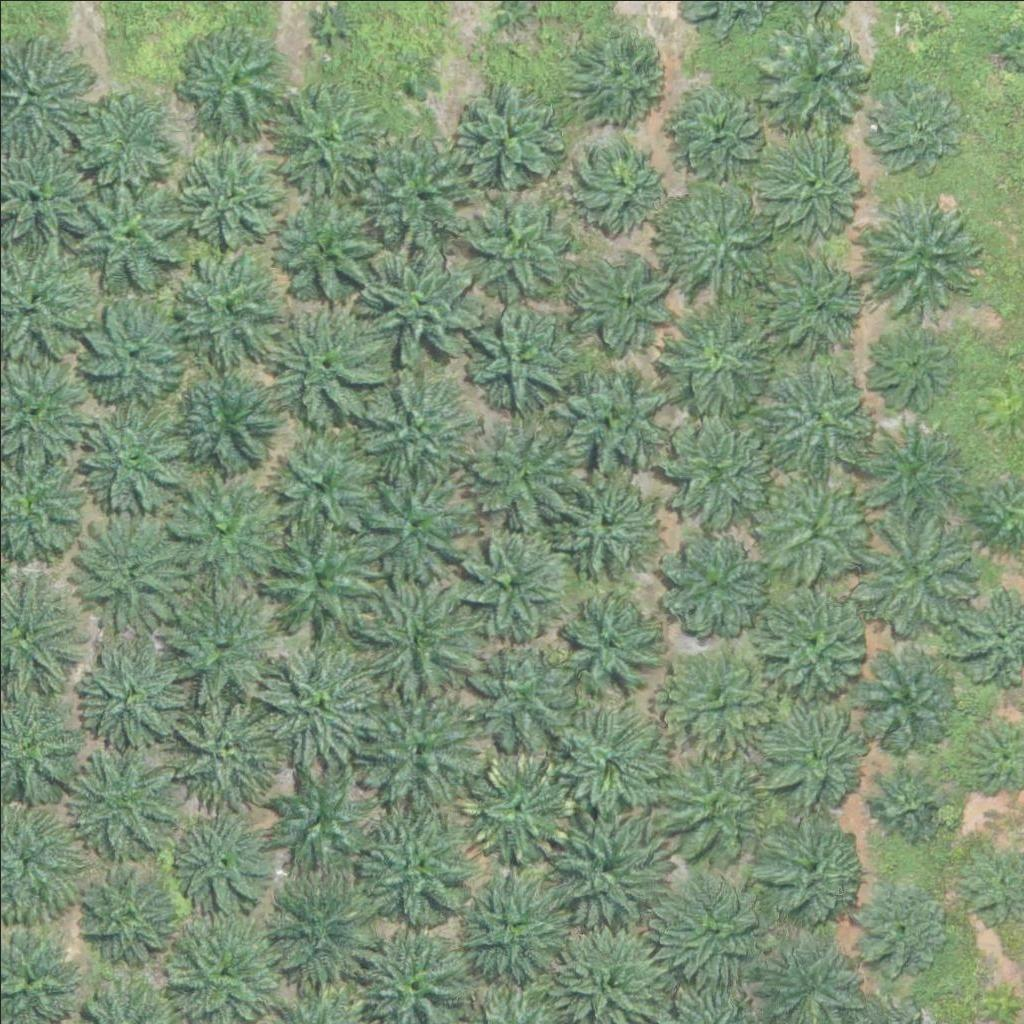Kelapa_Sawit: (166, 686, 291, 812), (158, 575, 283, 701), (262, 640, 387, 766), (258, 870, 383, 996), (354, 805, 479, 931), (356, 685, 481, 811), (366, 570, 491, 696), (856, 511, 981, 637), (863, 191, 988, 317), (453, 177, 578, 303), (350, 462, 475, 588), (352, 368, 477, 494), (357, 233, 482, 359), (357, 118, 482, 244), (260, 523, 385, 649), (256, 424, 381, 550), (260, 303, 385, 429), (270, 190, 395, 316), (168, 468, 293, 594), (74, 386, 199, 512), (71, 509, 196, 635), (69, 166, 194, 292), (651, 177, 776, 302), (454, 873, 567, 987), (180, 141, 293, 255), (168, 248, 281, 362), (67, 79, 180, 193), (659, 748, 772, 861), (665, 642, 778, 755), (753, 581, 866, 694), (763, 697, 876, 810), (753, 813, 866, 926), (655, 531, 768, 644), (547, 461, 660, 574), (764, 21, 877, 134), (660, 416, 773, 529), (660, 303, 773, 416), (562, 365, 675, 478), (448, 75, 561, 188), (176, 23, 289, 136), (165, 361, 278, 474), (469, 413, 581, 527), (80, 638, 192, 751), (64, 744, 176, 857), (167, 909, 279, 1022), (461, 752, 573, 865), (462, 636, 574, 749), (555, 583, 667, 696), (555, 707, 667, 820), (548, 809, 660, 922), (657, 874, 769, 987), (454, 527, 566, 640), (756, 465, 868, 578), (855, 414, 967, 527), (760, 358, 872, 471), (758, 125, 870, 238), (467, 301, 579, 414), (270, 75, 382, 188), (76, 291, 188, 404), (76, 862, 176, 963), (171, 812, 271, 913), (848, 875, 948, 976), (856, 644, 956, 745), (867, 77, 967, 178), (764, 249, 864, 350), (666, 77, 766, 178), (576, 249, 676, 350), (574, 132, 674, 233), (576, 19, 676, 120), (269, 772, 369, 872), (868, 325, 955, 413), (869, 766, 944, 841), (388, 54, 438, 104), (893, 6, 931, 43)
